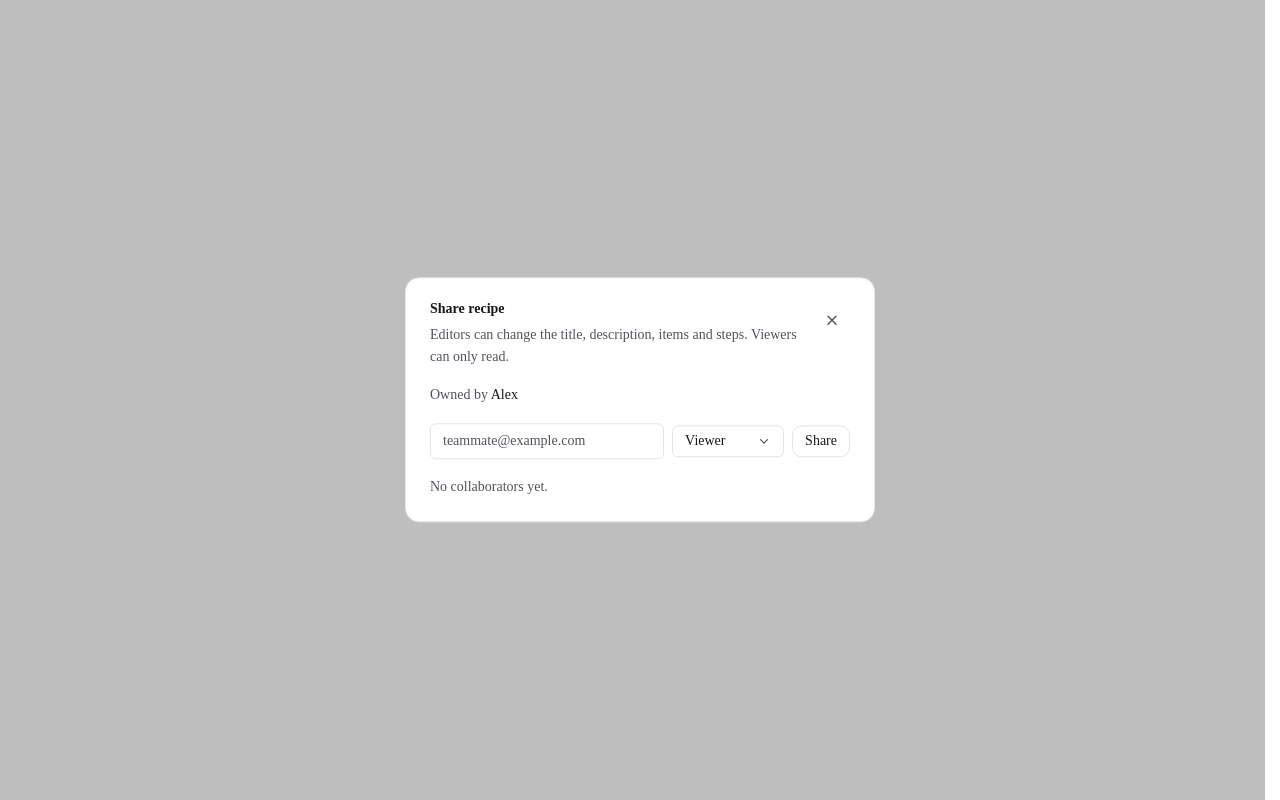
Scenario: the share dialog's Share button › asks for an email instead of sharing
Click the button "Share" at (821, 442), box x1=792 y1=426 x2=850 y2=458
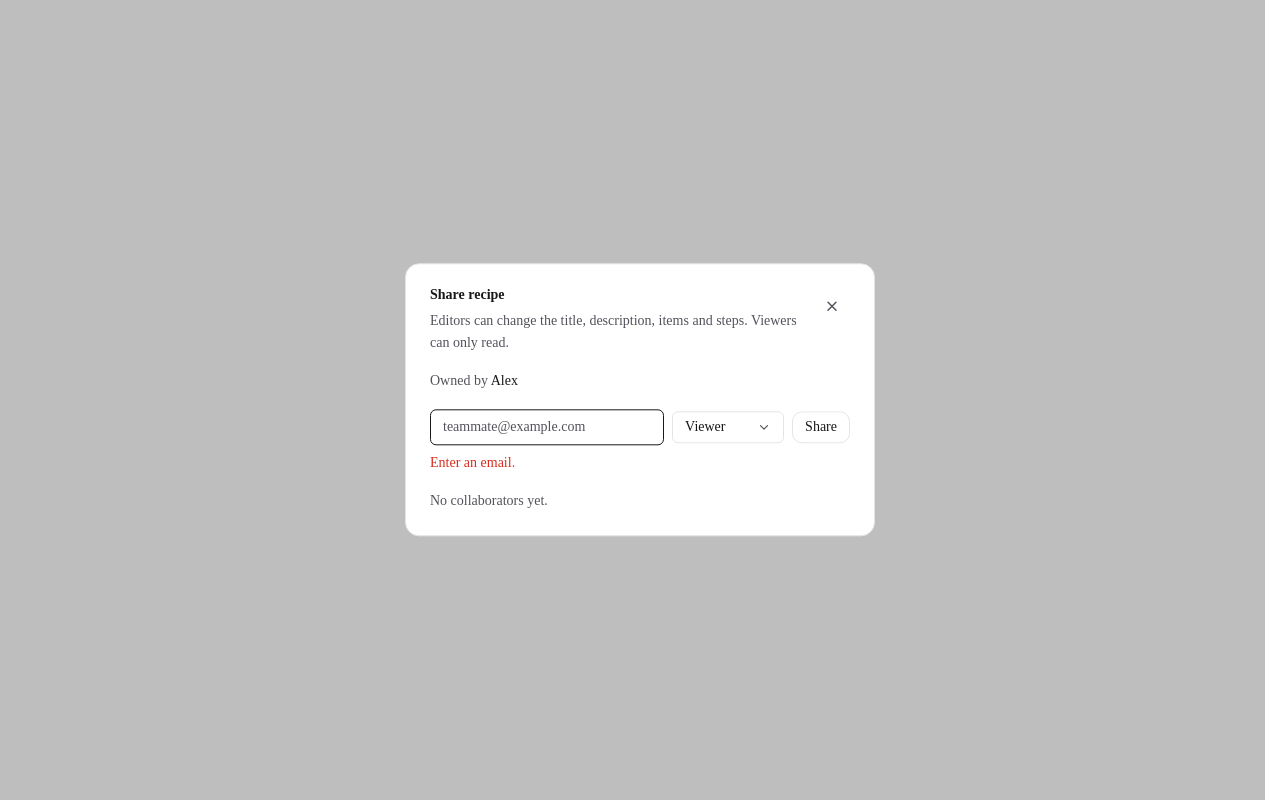
Result: the message reads "Enter an email." at x1=430 y1=456 x2=515 y2=471
